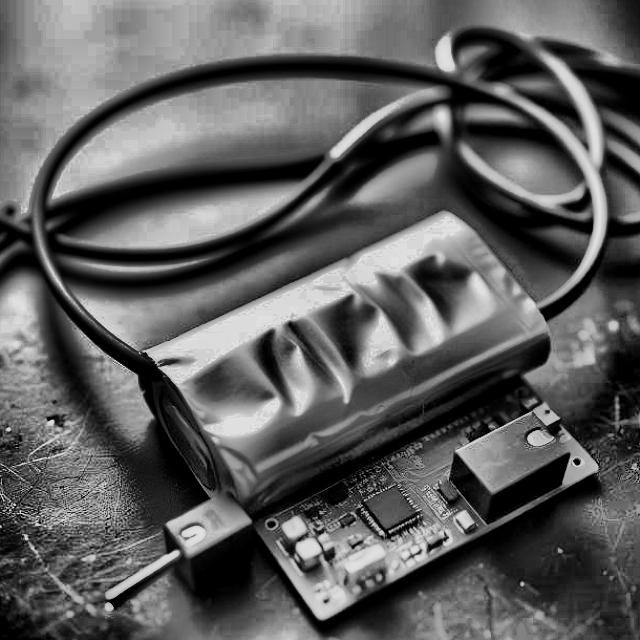Battery: (133, 204, 562, 518)
Cable: (0, 31, 640, 237)
PCB: (243, 370, 601, 619)
